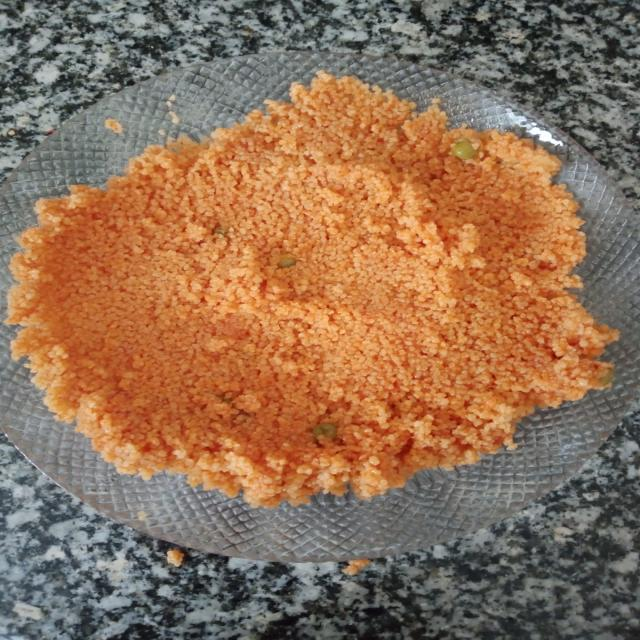Couscous: (59, 82, 590, 506)
